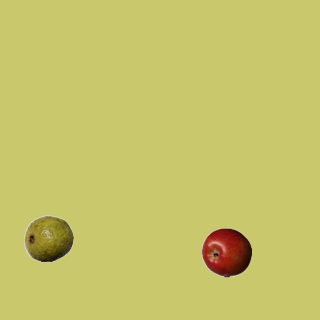Apple Braeburn: (201, 227, 251, 277)
Guava: (23, 213, 73, 263)
